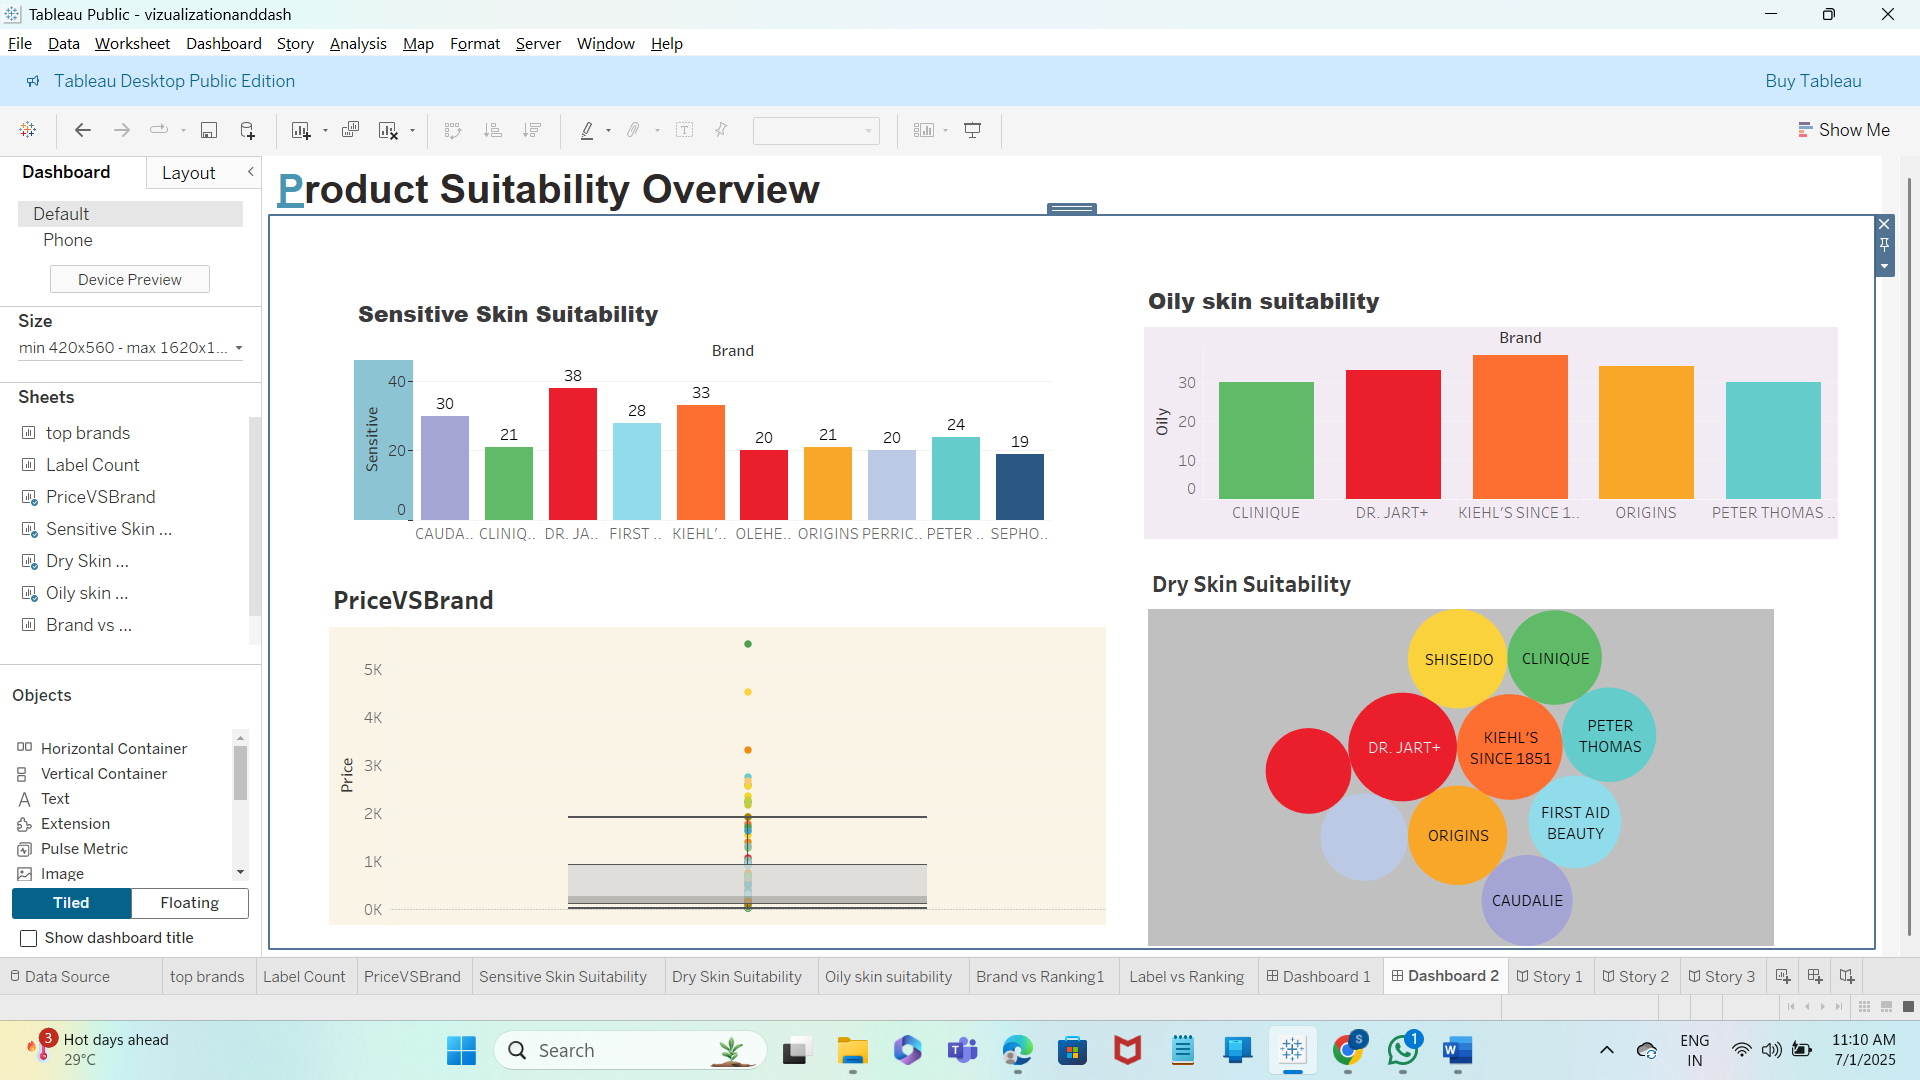

What the dashboard file says about the page in this screenshot:
{"tool":"tableau","page":{"name":"Dashboard 2","canvas":[1000,1000],"units":"permille","ordinal":1},"visuals":[{"type":"title","box":[4.9,10,990.1,66.2]},{"type":"worksheet","title":"Oily skin suitability","mark":"Automatic","rows":["Oily"],"cols":["Brand"],"box":[544.4,157.3,428.4,322.1]},{"type":"worksheet","title":"Sensitive Skin Suitability","mark":"Bar","rows":["Sensitive"],"cols":["Brand"],"box":[56.8,173.5,430.9,332.1]},{"type":"worksheet","title":"Dry Skin Suitability","mark":"Circle","box":[546.9,510.6,386.4,476.9]},{"type":"worksheet","title":"PriceVSBrand","mark":"Circle","rows":["Price"],"box":[41.4,528.1,479.6,433.2]}]}

Visuals, with their boxes on the dashboard's canvas, which has no fixed pixel size, in thousandths of its width and height (x1, y1, x2, y2). These are canvas units, not pixel positions in the 1920x1080 screenshot, which may show the page scaled, cropped or inside an application window:
title: (5,10,995,76)
"Oily skin suitability" worksheet: (544,157,973,479)
"Sensitive Skin Suitability" worksheet (Bar marks): (57,174,488,506)
"Dry Skin Suitability" worksheet (Circle marks): (547,511,933,988)
"PriceVSBrand" worksheet (Circle marks): (41,528,521,961)
